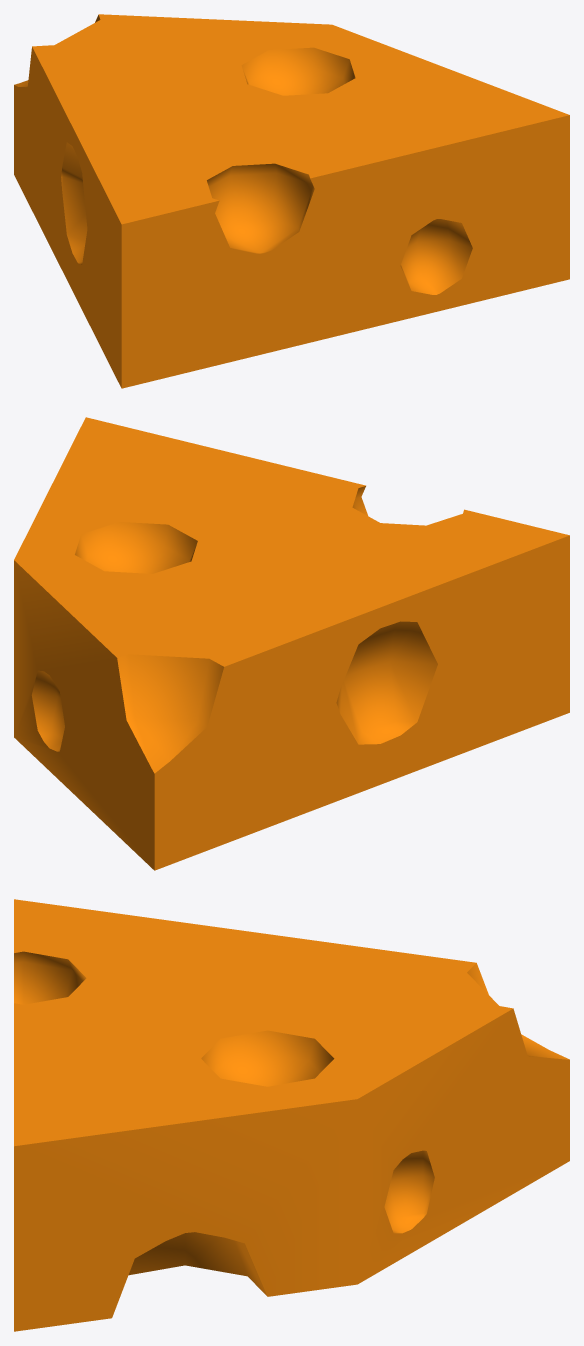
The model's file is cheese.FBX.
The picture shows the model from 3 angles, top to bottom: view 1: azimuth 30°, elevation 25°; view 2: azimuth 150°, elevation 25°; view 3: azimuth 270°, elevation 25°; orthographic projection. The views are drawn at different scales.
Parts seen in each view (by area): view 1: Cylinder001; view 2: Cylinder001; view 3: Cylinder001.
Boxes of the visible parts, box(x1,y1,x2,y2) form: Cylinder001: box(14, 14, 569, 388); Cylinder001: box(14, 417, 569, 870); Cylinder001: box(14, 899, 569, 1331).
Size of the model in its own units: 20 by 7 by 19.02.
